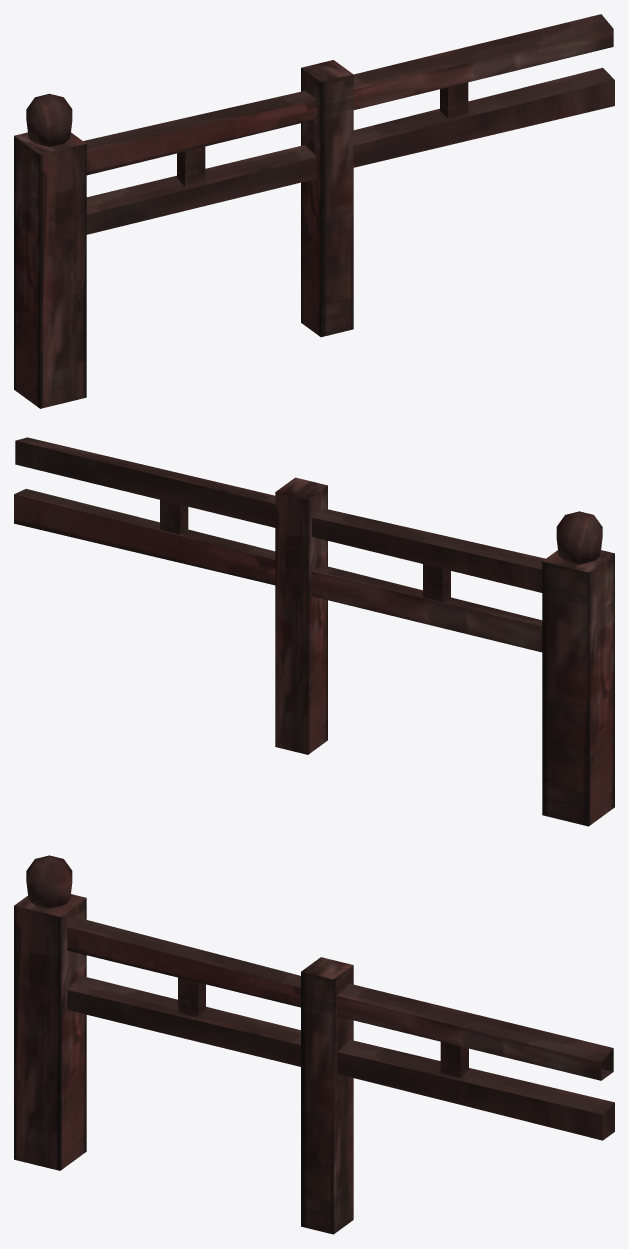
The model's file is STR_RailLong.FBX.
3 renders of one model, top to bottom at view 1: azimuth 30°, elevation 25°; view 2: azimuth 150°, elevation 25°; view 3: azimuth 330°, elevation 25°, orthographic.
Visible parts, largest first — view 1: STR_RailLong; view 2: STR_RailLong; view 3: STR_RailLong.
Part boxes in pixels (x1,y1,x2,y2): STR_RailLong: (14,14,614,408); STR_RailLong: (14,437,614,826); STR_RailLong: (14,855,614,1234).
Bounding box in the file's own units: 314 × 154 × 24.54.
